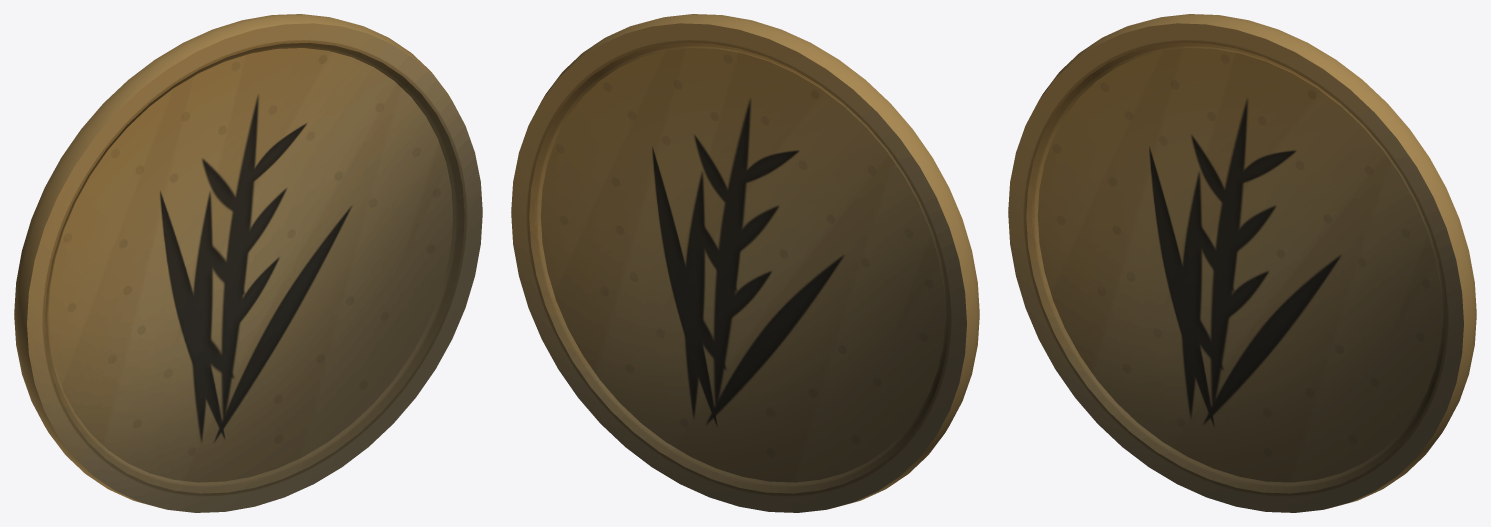
The model's file is Coin.glb.
The picture shows the model from 3 angles, left to right: view 1: azimuth 30°, elevation 25°; view 2: azimuth 150°, elevation 25°; view 3: azimuth 330°, elevation 25°; orthographic projection.
Visible parts, largest first — view 1: Circle; view 2: Circle; view 3: Circle.
Part boxes in pixels (x1,y1,x2,y2): Circle: [14, 14, 482, 512]; Circle: [511, 14, 979, 512]; Circle: [1008, 14, 1476, 512].
Bounding box in the file's own units: 5.03 × 5.03 × 0.2414.
1 material, 1 textured.
